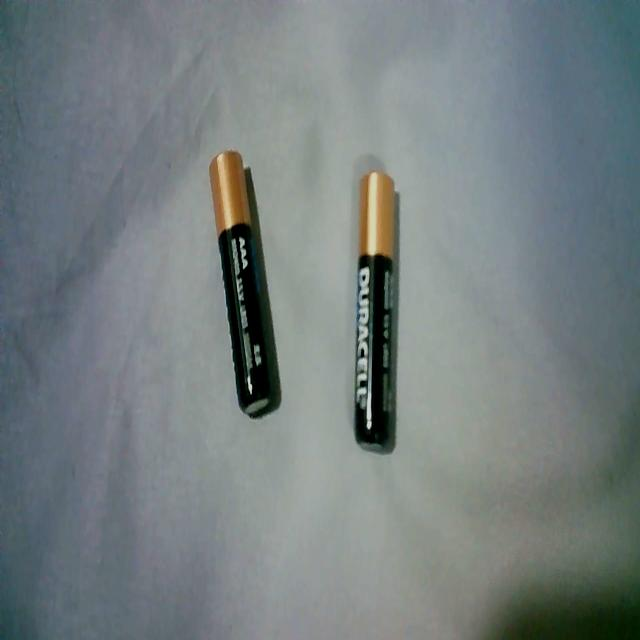AAA: (202, 141, 278, 421), (352, 165, 399, 449)
